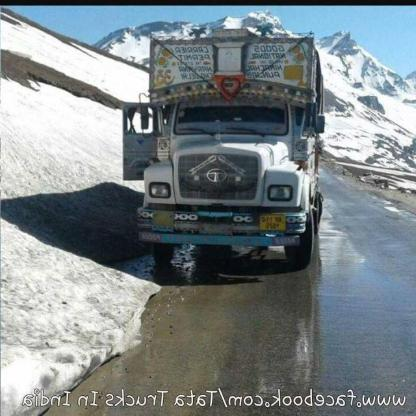truck: (118, 33, 328, 269)
